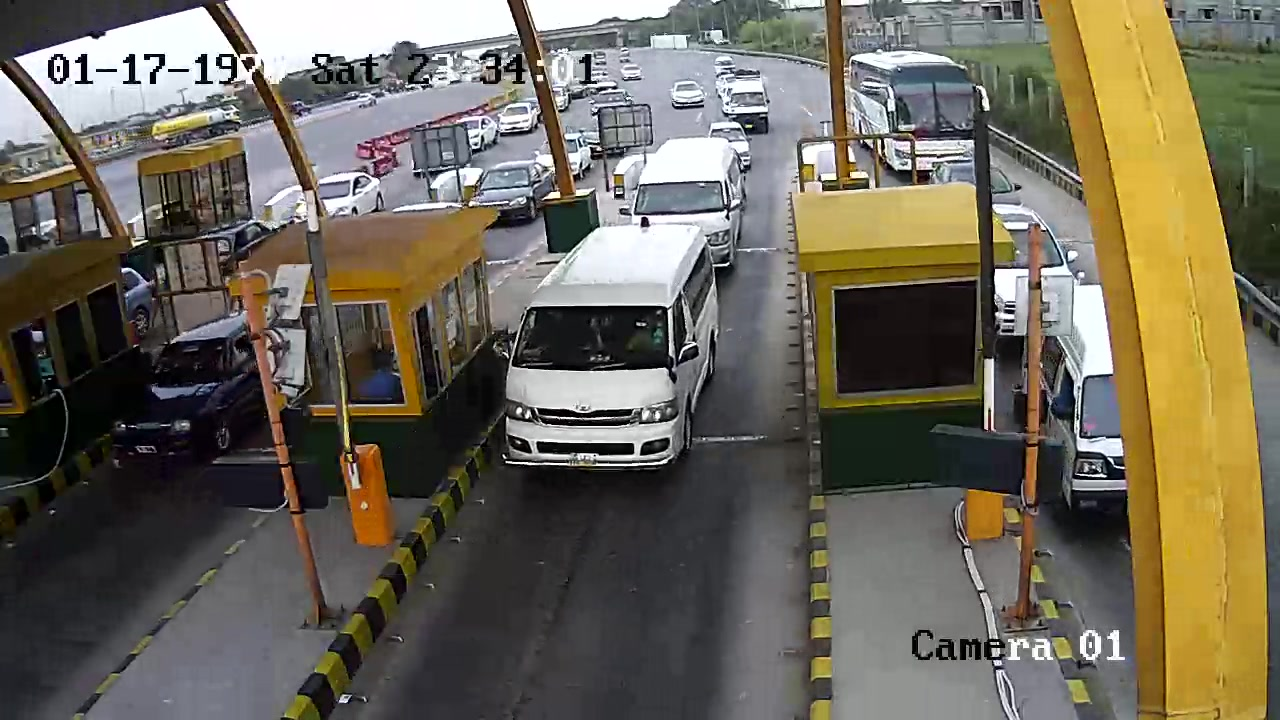F2: (492, 223, 727, 480)
